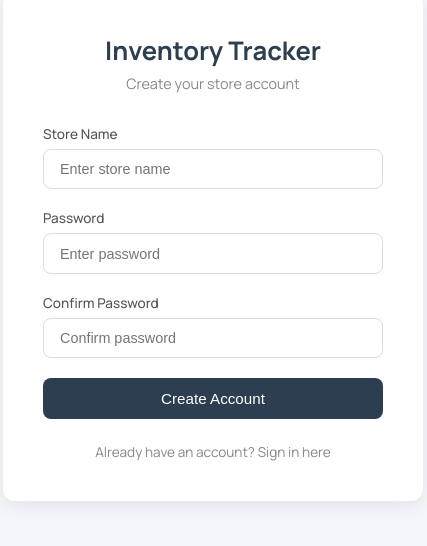
Test case: Register.vue › shows error when passwords do not match
Type "password123" into the password field with placeholder "Enter password" at (213, 254), box x1=43 y1=233 x2=383 y2=274
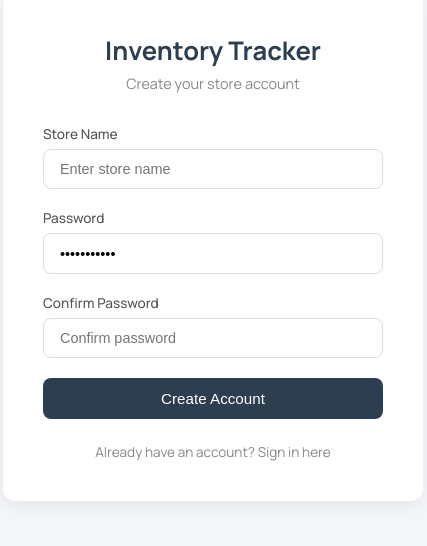
Type "differentpassword" into the password field with placeholder "Confirm password" at (213, 338), box x1=43 y1=318 x2=383 y2=358
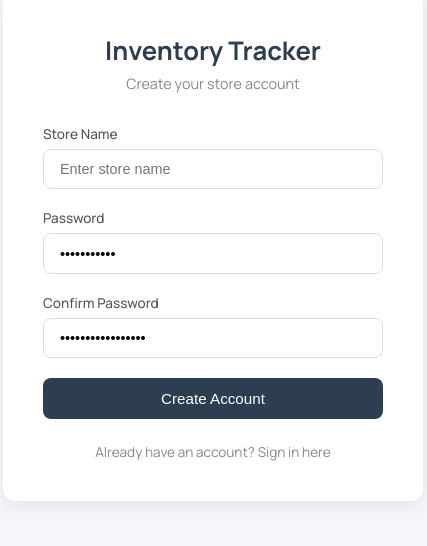
Submit the form, box x1=43 y1=125 x2=383 y2=419
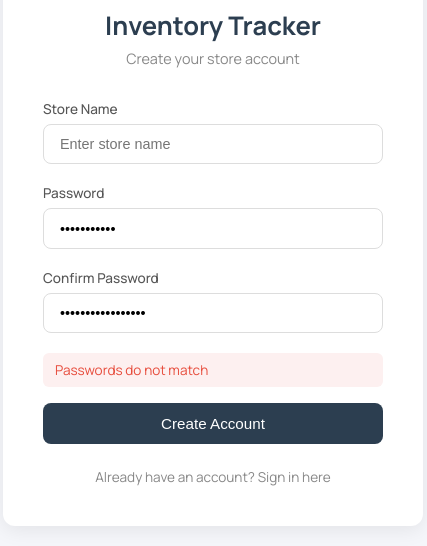
Check: the text "Passwords do not match" is shown, box x1=43 y1=353 x2=383 y2=387
